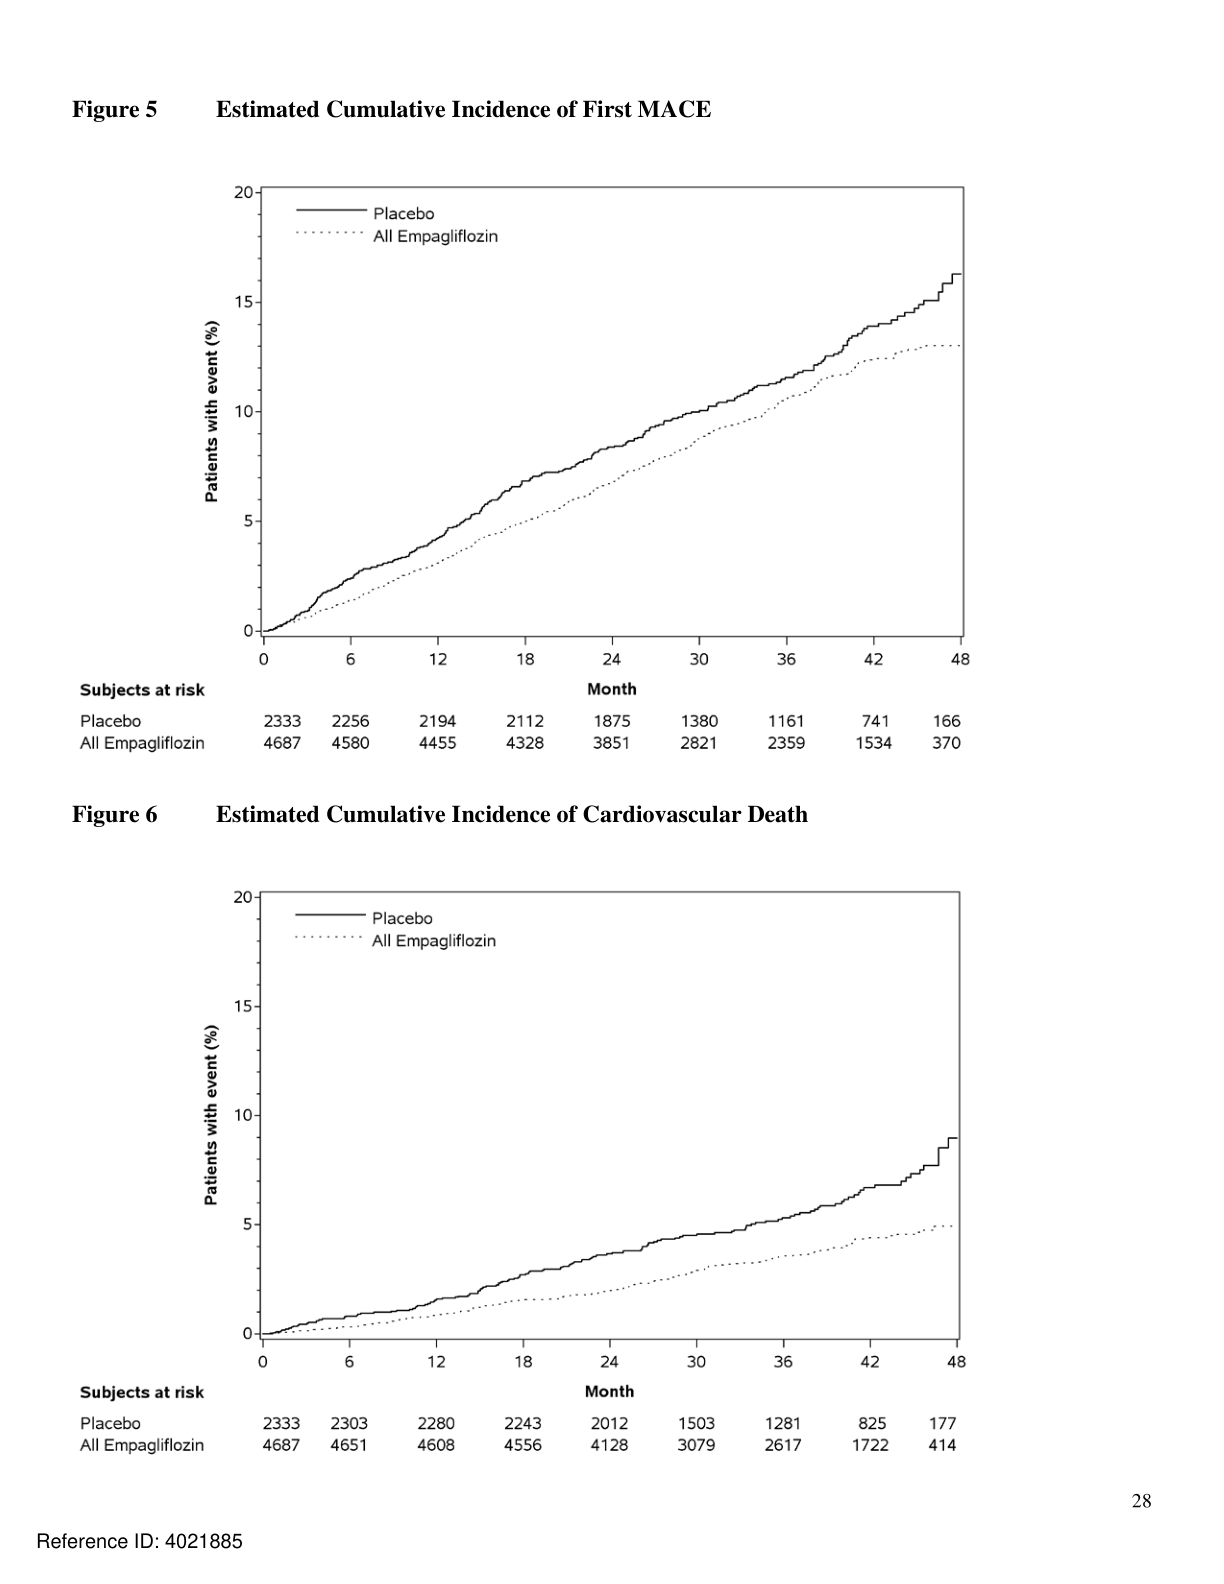nolines: (75, 711, 964, 753), (77, 1414, 960, 1454)
